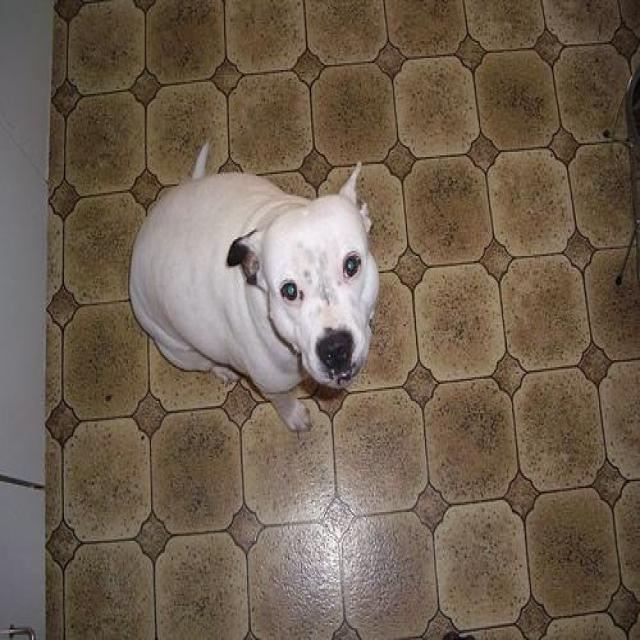staffordshire_bullterrier: (130, 140, 382, 432)
